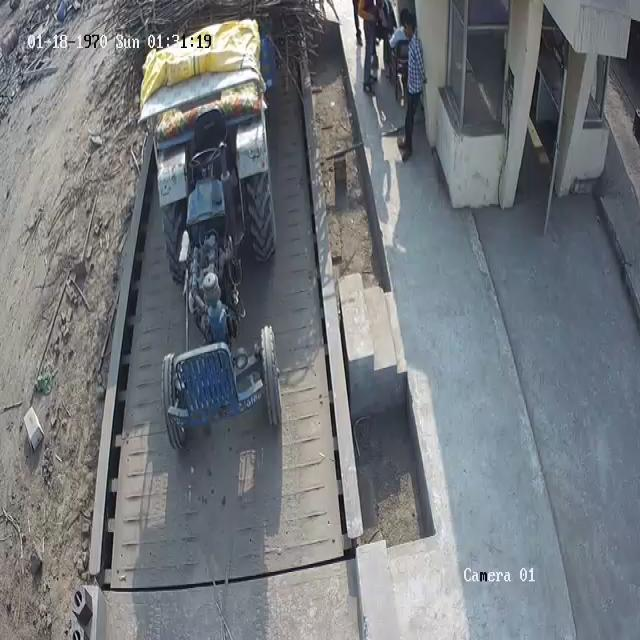Tratores - v5 YOLO V8L 2024-11-13: (148, 52, 282, 445)
